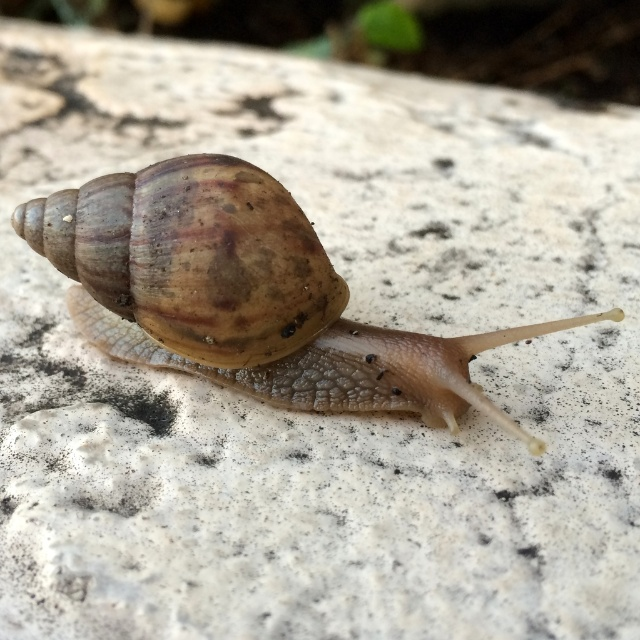Snail: (12, 148, 624, 454)
